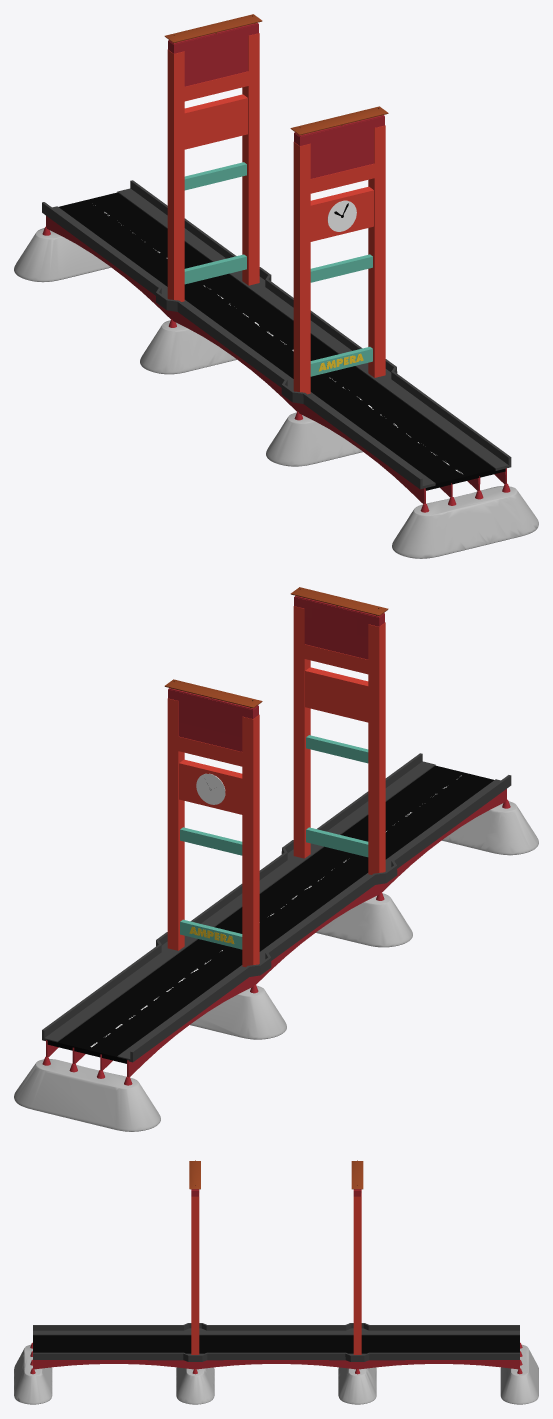
File: ampera.glb
3 views of the same model, one above another, from view 1: azimuth 30°, elevation 25°; view 2: azimuth 150°, elevation 25°; view 3: azimuth 270°, elevation 25° (orthographic). The views are drawn at different scales.
Parts seen in each view (by area): view 1: Text_Bake_0; view 2: Text_Bake_0; view 3: Text_Bake_0.
Part boxes in pixels (x1,y1,x2,y2): Text_Bake_0: (14, 14, 538, 558); Text_Bake_0: (14, 587, 538, 1131); Text_Bake_0: (14, 1160, 538, 1404).
Bounding box in the file's own units: 25.68 × 57.32 × 130.
Materials: 1 (1 with a texture image).
